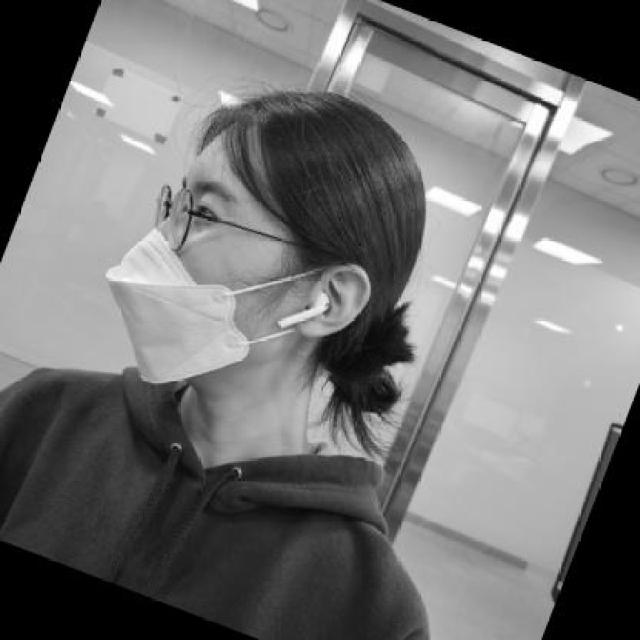earphone: (298, 248, 353, 370)
